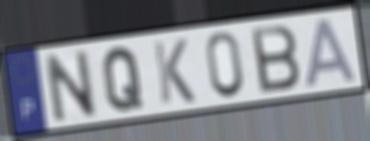0: (205, 30, 246, 100)
A: (304, 15, 361, 90)
B: (248, 22, 303, 96)
K: (151, 37, 198, 106)
N: (41, 46, 100, 125)
Q: (101, 44, 146, 114)
